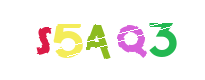3: (95, 0, 175, 80)
5: (30, 0, 110, 80)
A: (62, 0, 142, 80)
Q: (87, 0, 167, 80)
S: (3, 0, 83, 80)
